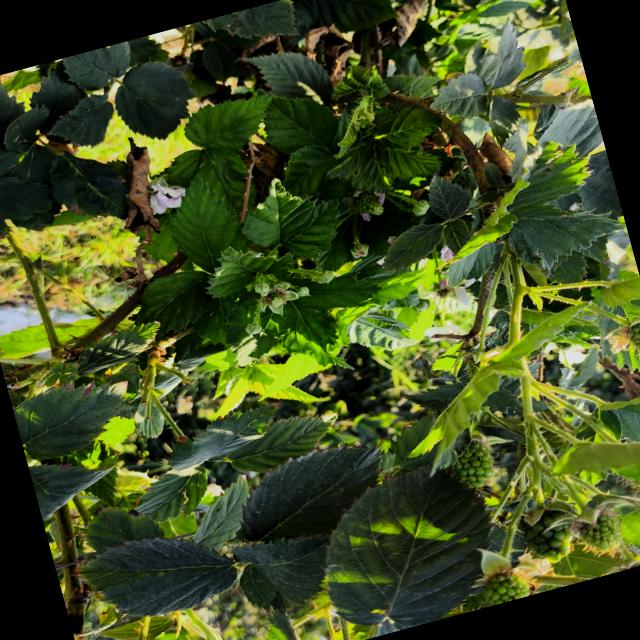boton: (412, 199, 430, 216), (350, 242, 368, 258), (314, 270, 334, 283), (254, 281, 270, 296), (245, 322, 261, 335), (296, 286, 309, 296)
flor: (149, 178, 185, 213)
